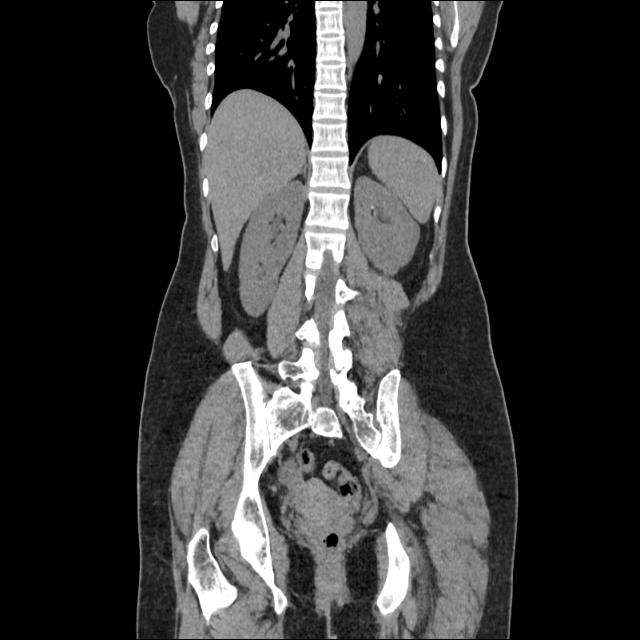kidney: (237, 176, 309, 320), (352, 169, 422, 281)
stone: (370, 202, 376, 212)
